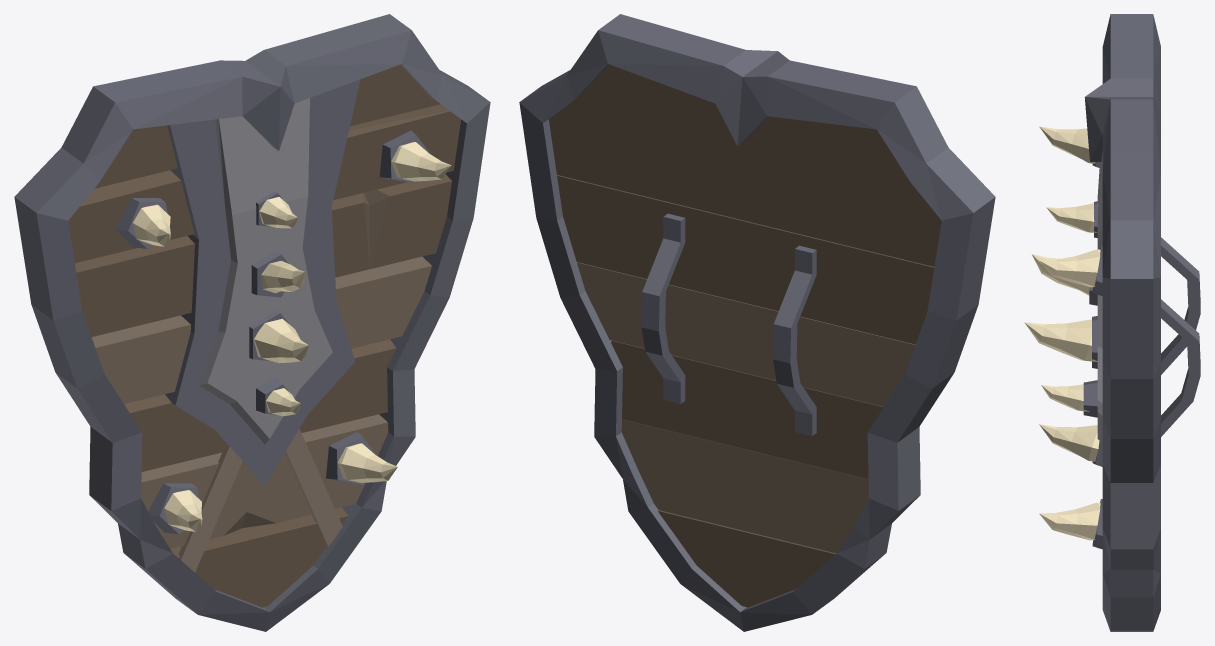
Rendered from _SHIELD_2.fbx.
3 renders of one model, left to right at view 1: azimuth 30°, elevation 25°; view 2: azimuth 150°, elevation 25°; view 3: azimuth 270°, elevation 25°, orthographic. The views are drawn at different scales.
Visible parts, largest first — view 1: SHIELD_2; view 2: SHIELD_2; view 3: SHIELD_2.
Boxes of the visible parts, x1,y1,x2,y2 form: SHIELD_2: [14, 14, 490, 631]; SHIELD_2: [519, 14, 995, 631]; SHIELD_2: [1024, 14, 1200, 631].
Size of the model in its own units: 151 by 180 by 52.62.
